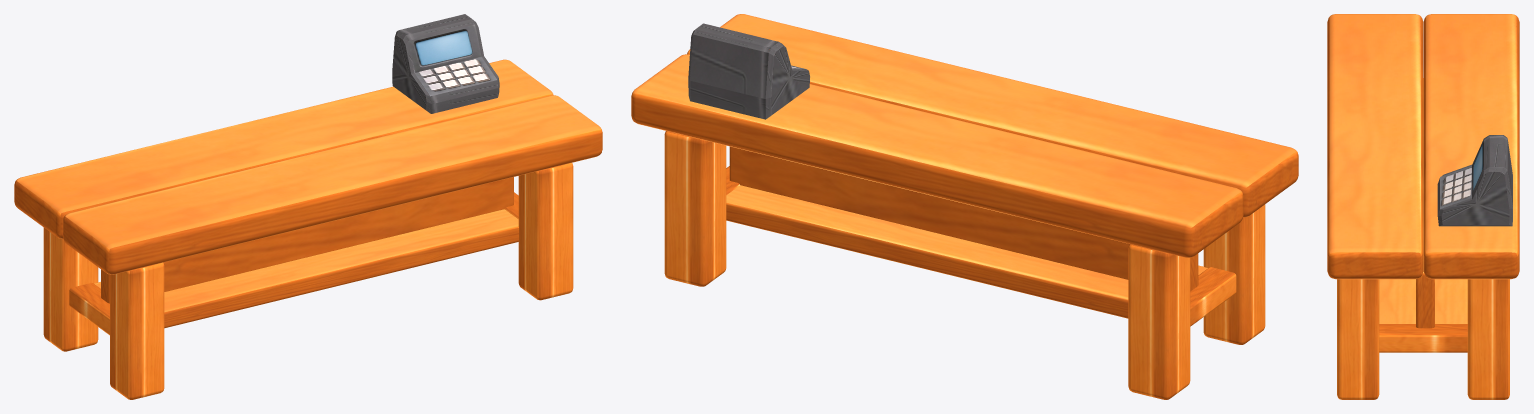
The model's file is canonical_counter.glb.
3 views of the same model, side by side, from view 1: azimuth 30°, elevation 25°; view 2: azimuth 150°, elevation 25°; view 3: azimuth 270°, elevation 25° (orthographic). The views are drawn at different scales.
Visible parts, largest first — view 1: CanonicalGoldenCounter; view 2: CanonicalGoldenCounter; view 3: CanonicalGoldenCounter.
Part boxes in pixels (left/top/right/bottom): CanonicalGoldenCounter: left=14, top=14, right=602, bottom=399; CanonicalGoldenCounter: left=631, top=14, right=1298, bottom=399; CanonicalGoldenCounter: left=1327, top=14, right=1519, bottom=399.
Size of the model in its own units: 3.43 by 1.48 by 1.16.
Materials: 1 (1 with a texture image).
